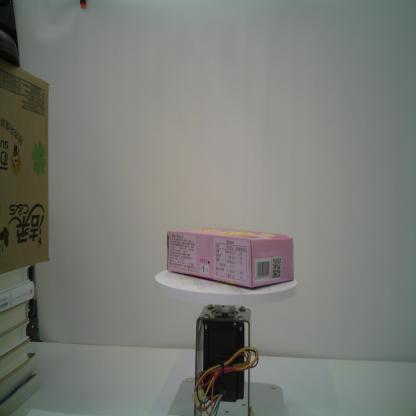Dessert: (165, 227, 296, 291)
